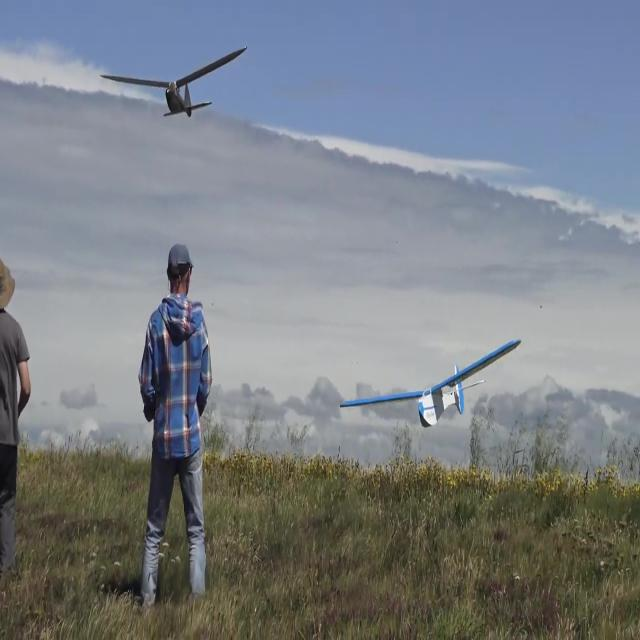iha: (339, 370, 522, 396), (100, 18, 247, 18)
